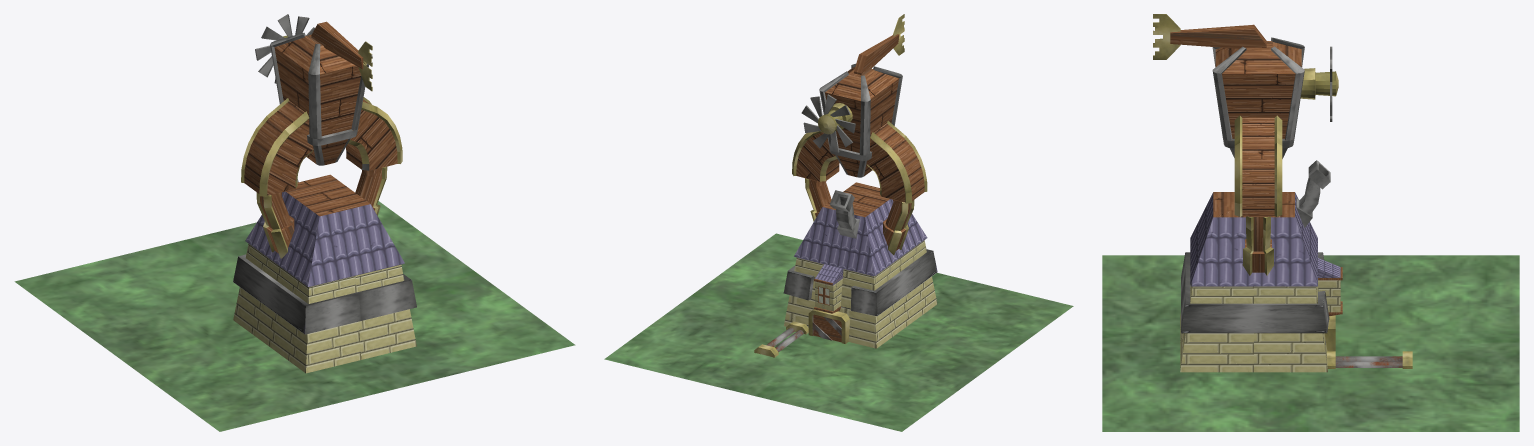
The model's file is WindmillTexture.FBX.
The picture shows the model from 3 angles, left to right: view 1: azimuth 30°, elevation 25°; view 2: azimuth 150°, elevation 25°; view 3: azimuth 270°, elevation 25°; orthographic projection. The views are drawn at different scales.
Parts seen in each view (by area): view 1: Box001; view 2: Box001; view 3: Box001.
Boxes of the visible parts, <box> form: Box001: <box>14,14,575,431</box>; Box001: <box>604,14,1073,431</box>; Box001: <box>1102,14,1519,431</box>.
Size of the model in its own units: 78.74 by 78.74 by 69.51.
1 material, 1 textured.
